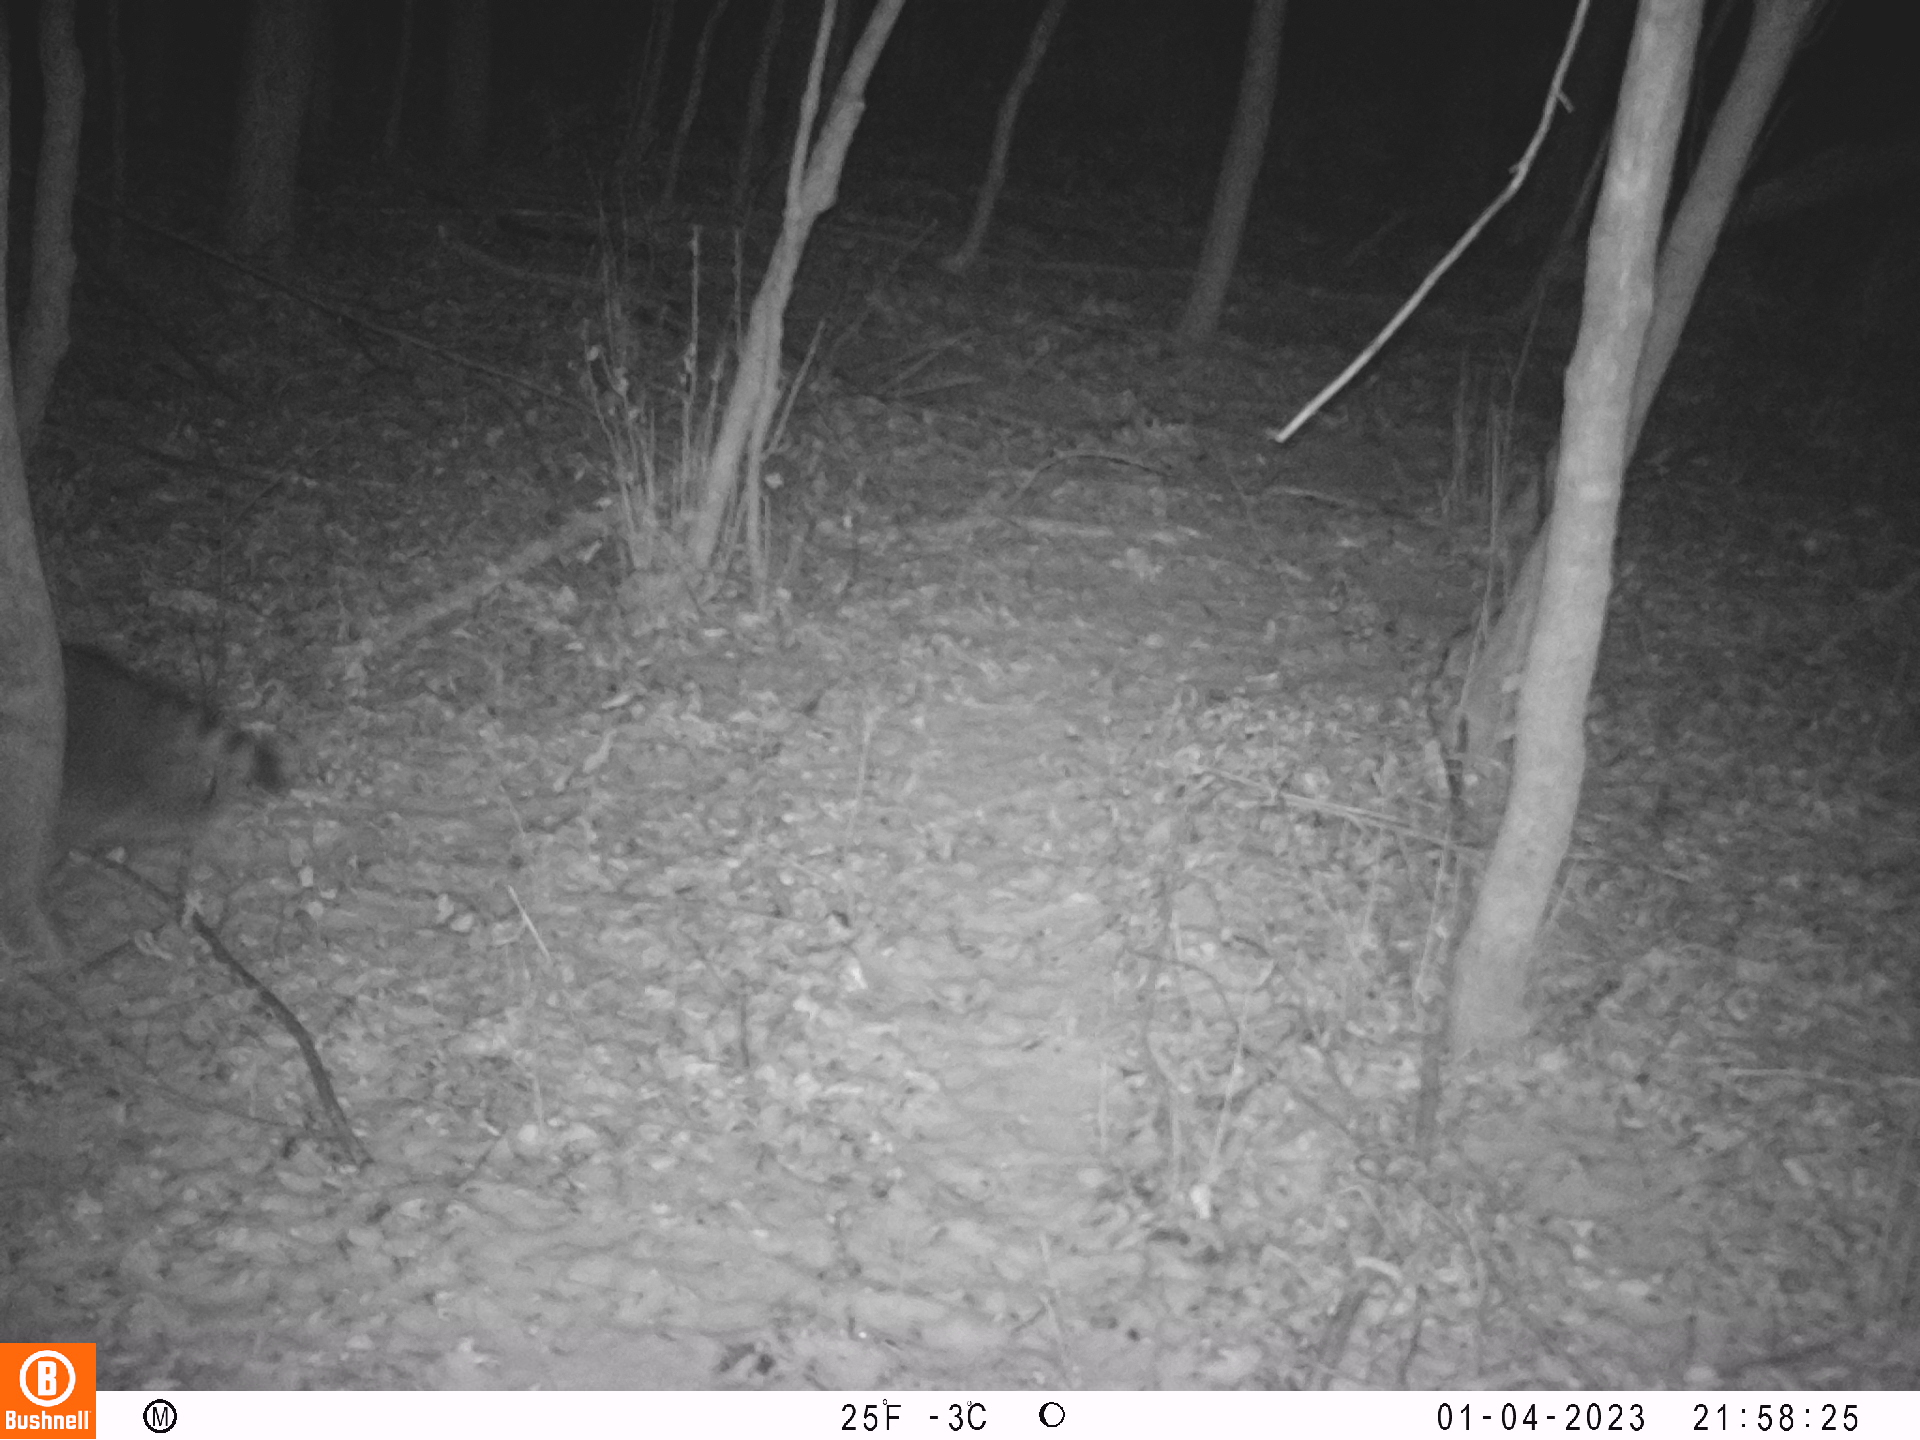Raccoon: (51, 635, 287, 824)
